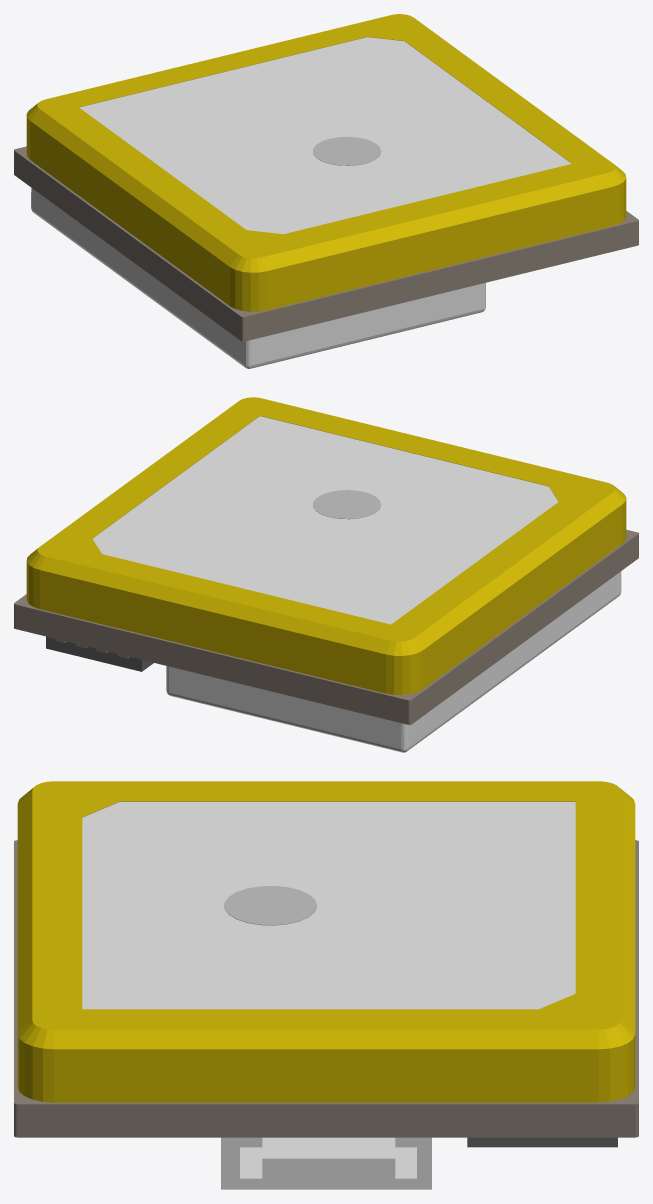
Rendered from model_flywoo_goku_m10_pro_v3.glb.
3 renders of one model, top to bottom at view 1: azimuth 30°, elevation 25°; view 2: azimuth 150°, elevation 25°; view 3: azimuth 270°, elevation 25°, orthographic. The views are drawn at different scales.
Bounding box in the file's own units: 17 × 5.5 × 17.
